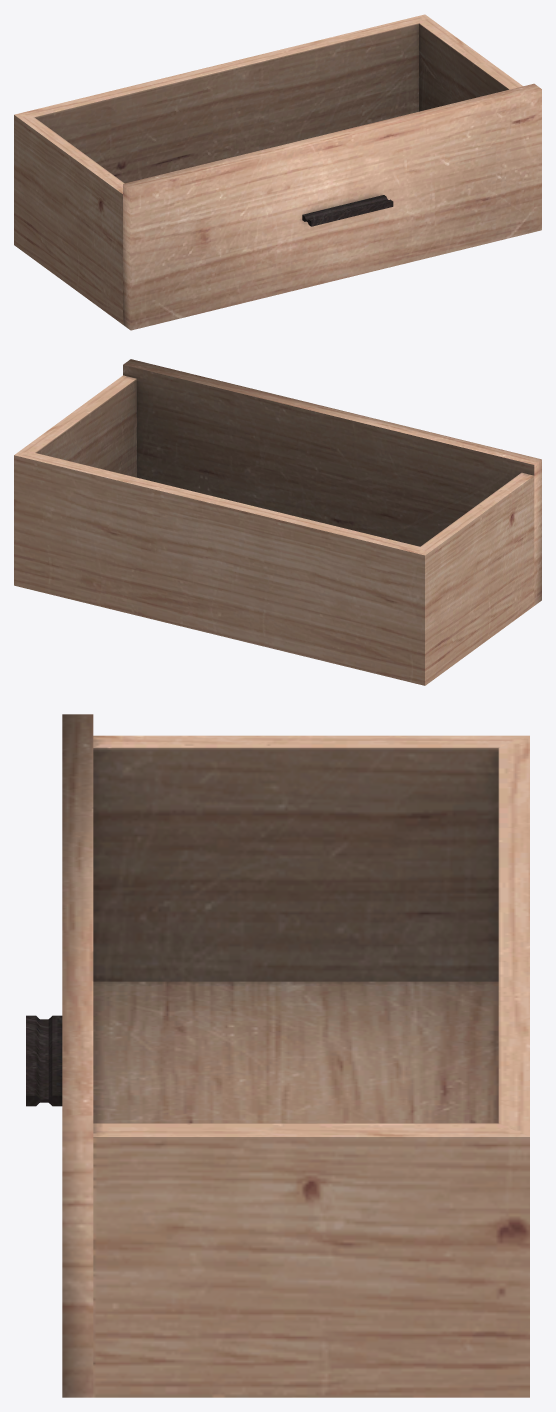
Rendered from cabinetBottomDrawer06.FBX.
The picture shows the model from 3 angles, top to bottom: view 1: azimuth 30°, elevation 25°; view 2: azimuth 150°, elevation 25°; view 3: azimuth 270°, elevation 25°; orthographic projection. The views are drawn at different scales.
Visible parts, largest first — view 1: SM_CabinetBottomDrawer06; view 2: SM_CabinetBottomDrawer06; view 3: SM_CabinetBottomDrawer06.
Boxes of the visible parts, bbox=[...] form: SM_CabinetBottomDrawer06: bbox=[14, 14, 541, 330]; SM_CabinetBottomDrawer06: bbox=[14, 359, 541, 685]; SM_CabinetBottomDrawer06: bbox=[26, 714, 529, 1397].
Size of the model in its own units: 58.52 by 19.18 by 31.05.
1 material, 1 textured.
